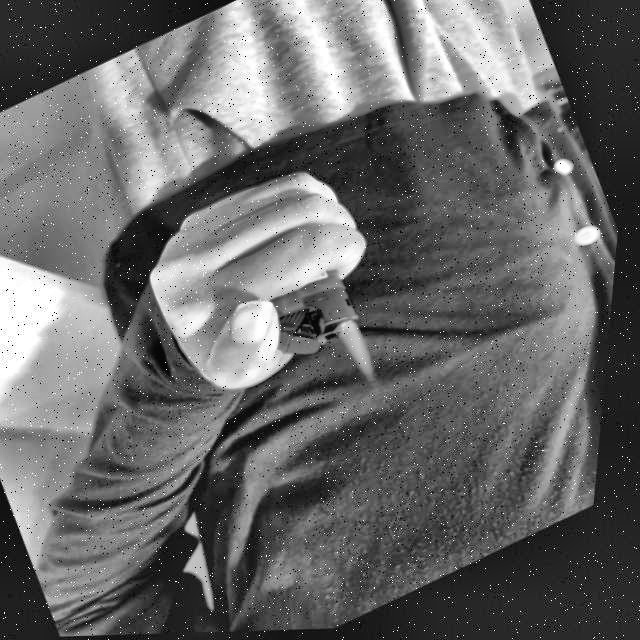Fire: (336, 317, 390, 392)
